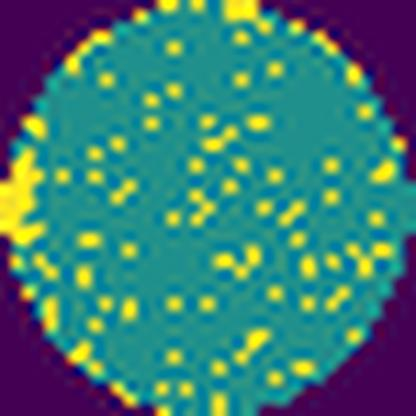Edge-Loc: (0, 146, 48, 246), (218, 0, 271, 35)
